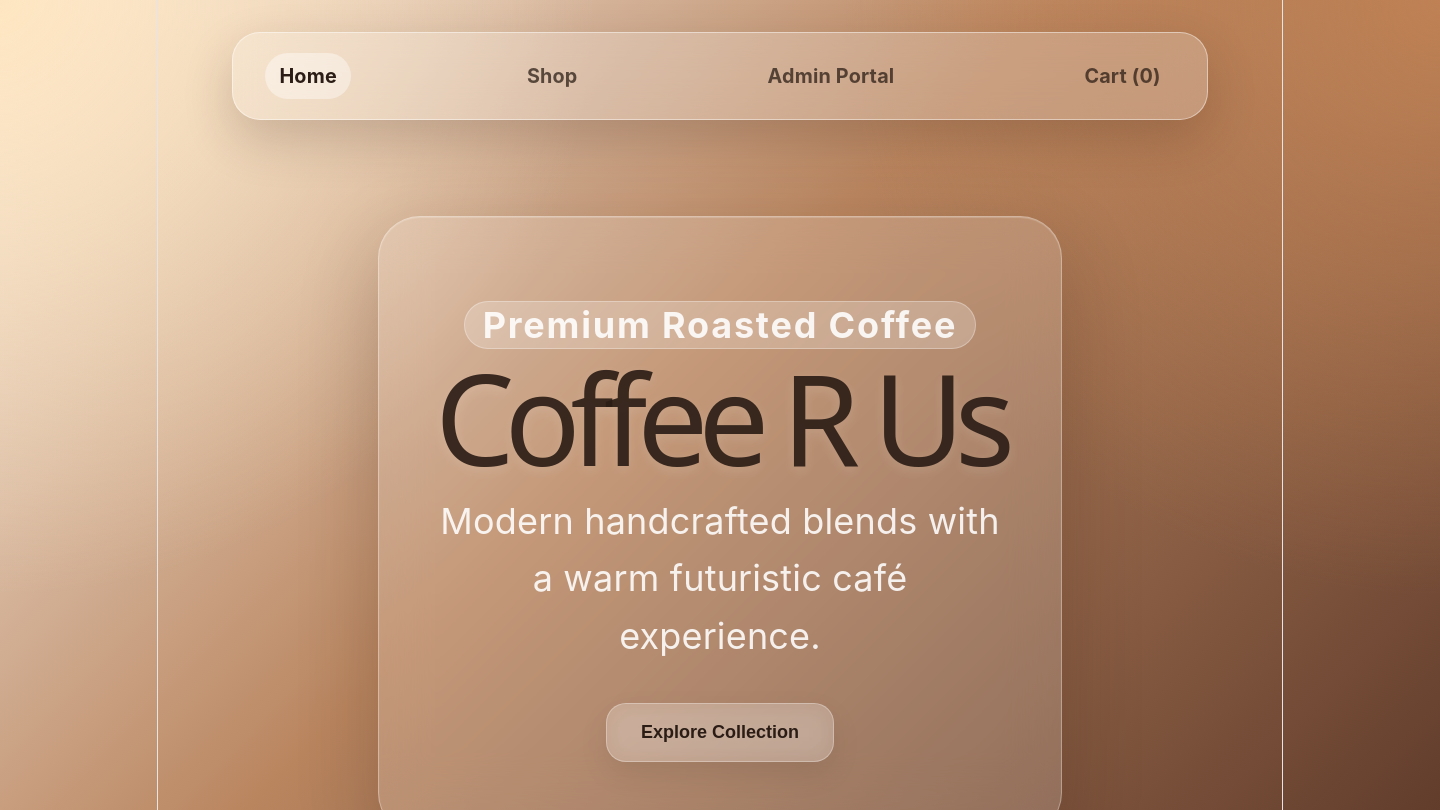
it: Coffee R Us App › adds a new coffee through the admin form
Click the link "Admin Portal".
click(831, 76)  # box [768, 64, 894, 88]
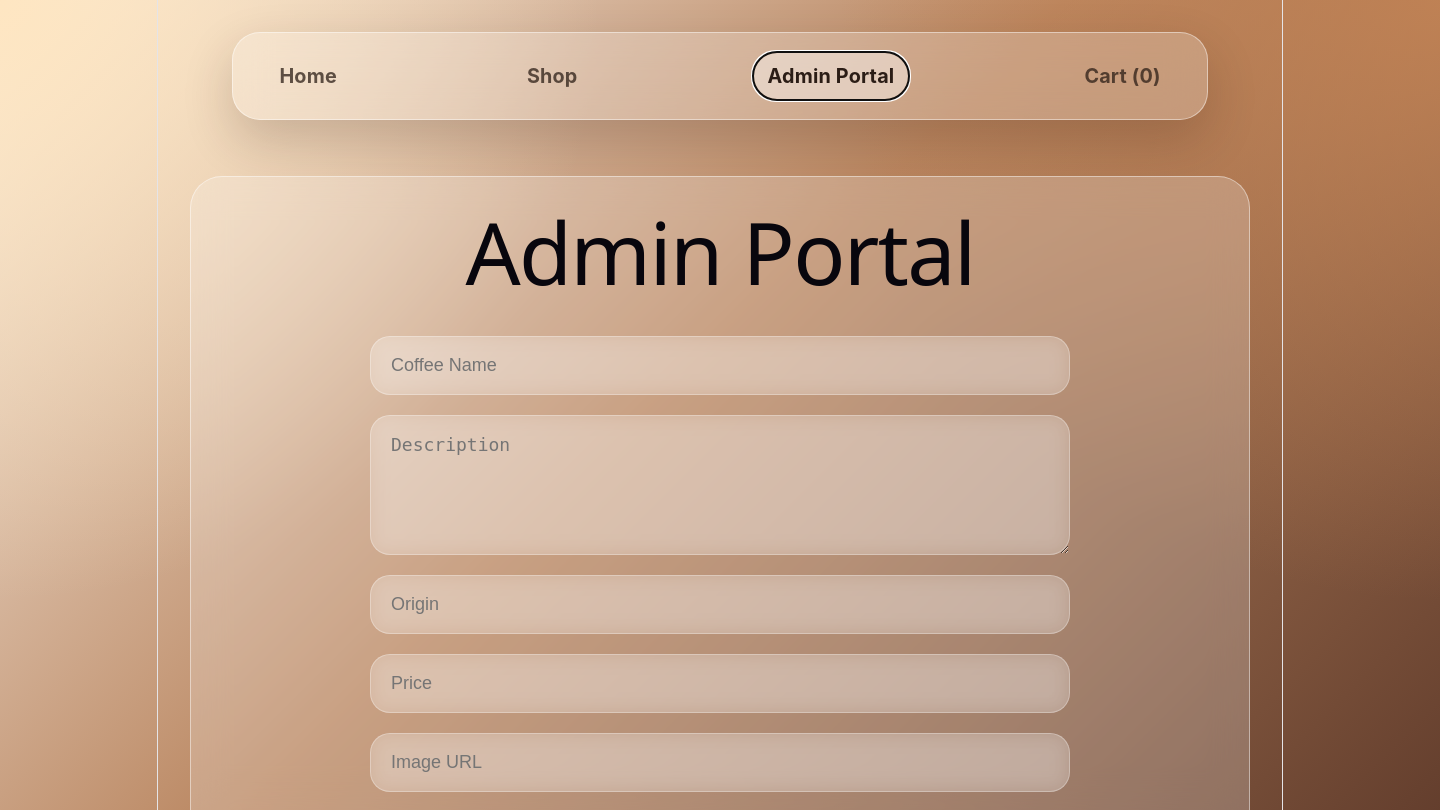
Type "Cinnamon Cloud" into the field with placeholder "Coffee Name".
click(720, 365); type("Cinnamon Cloud")  # box [370, 336, 1070, 394]
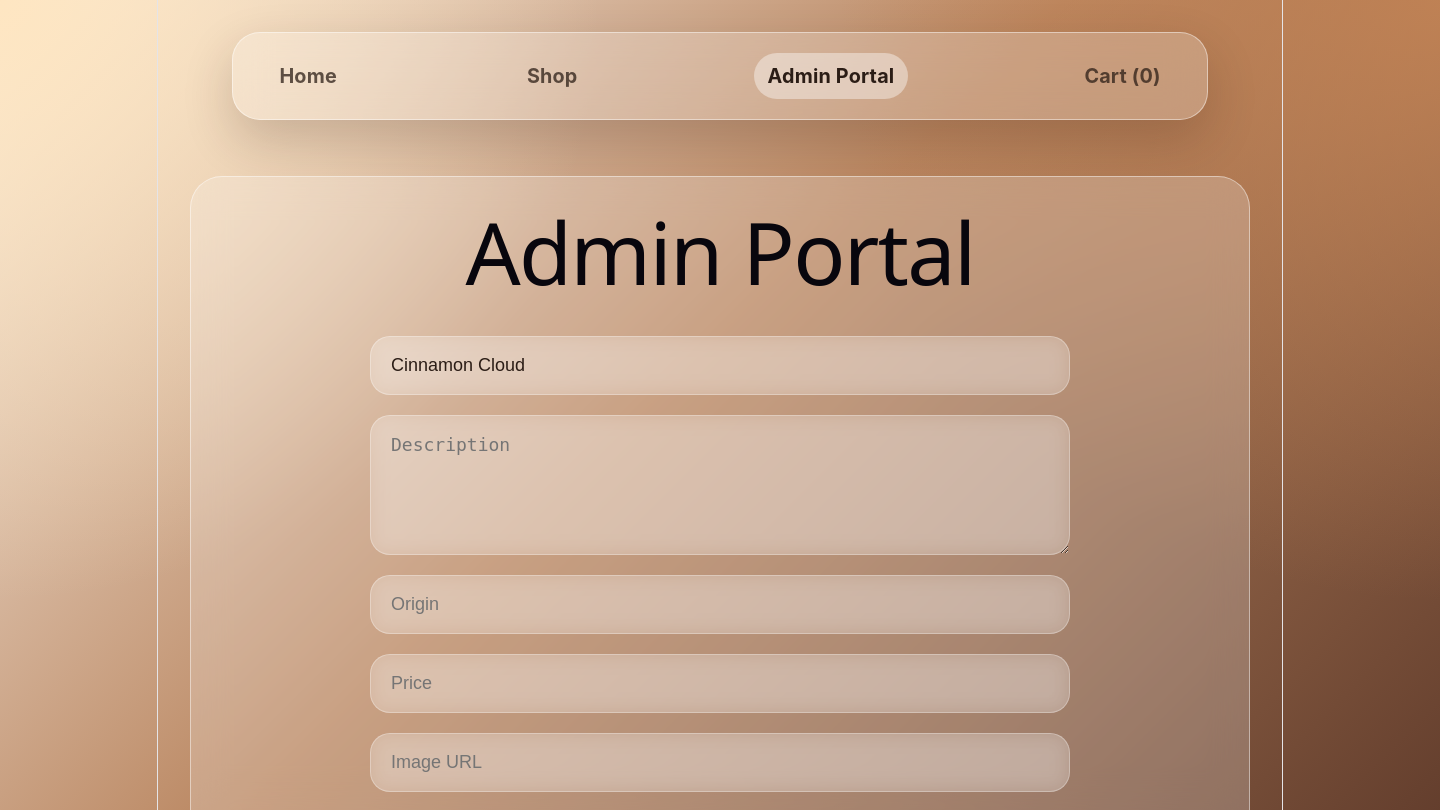
Type "Sweet warm roast" into the text box with placeholder "Description".
click(720, 484); type("Sweet warm roast")  # box [370, 414, 1070, 554]
Type "Mexico" into the field with placeholder "Origin".
click(720, 604); type("Mexico")  # box [370, 574, 1070, 634]
Type "16" into the number field with placeholder "Price".
click(720, 683); type("16")  # box [370, 654, 1070, 712]
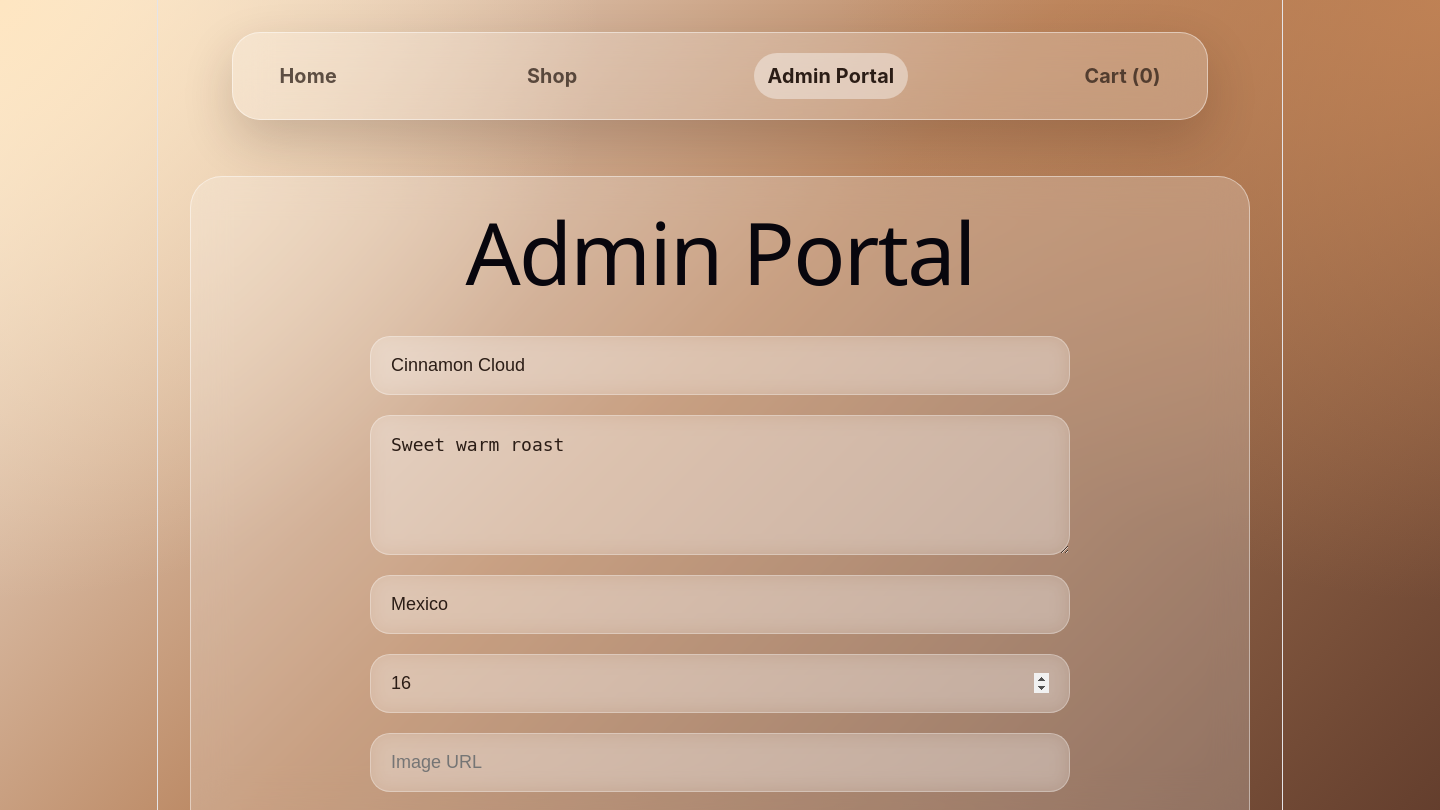
Type "https://images.unsplash.com/photo-1509042239860-f550ce710b93" into the field with placeholder "Image URL".
click(720, 762); type("https://images.unsplash.com/photo-1509042239860-f550ce710b93")  # box [370, 732, 1070, 792]
(page scrolled)
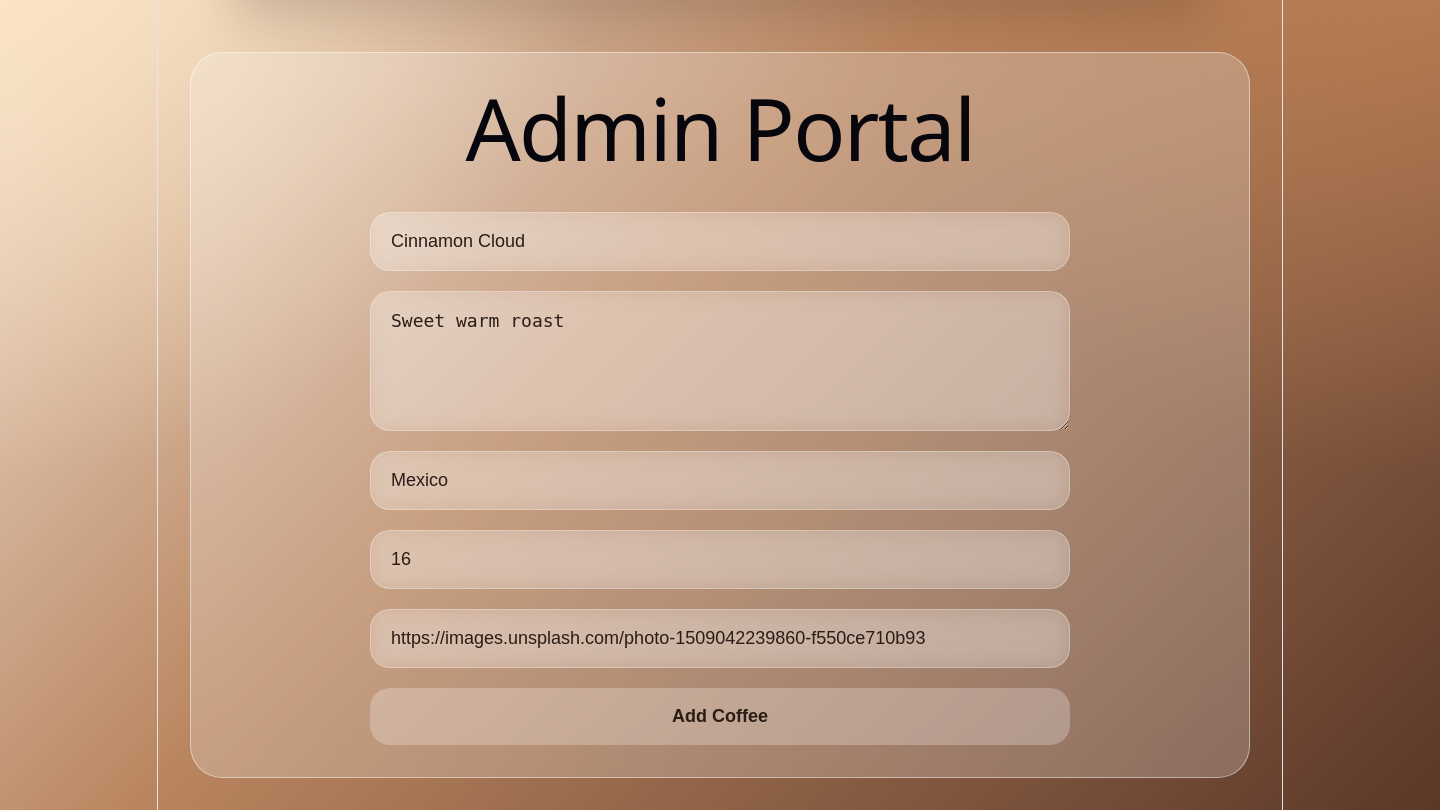
Click the button "Add Coffee".
click(720, 716)  # box [370, 688, 1070, 744]
(page scrolled)
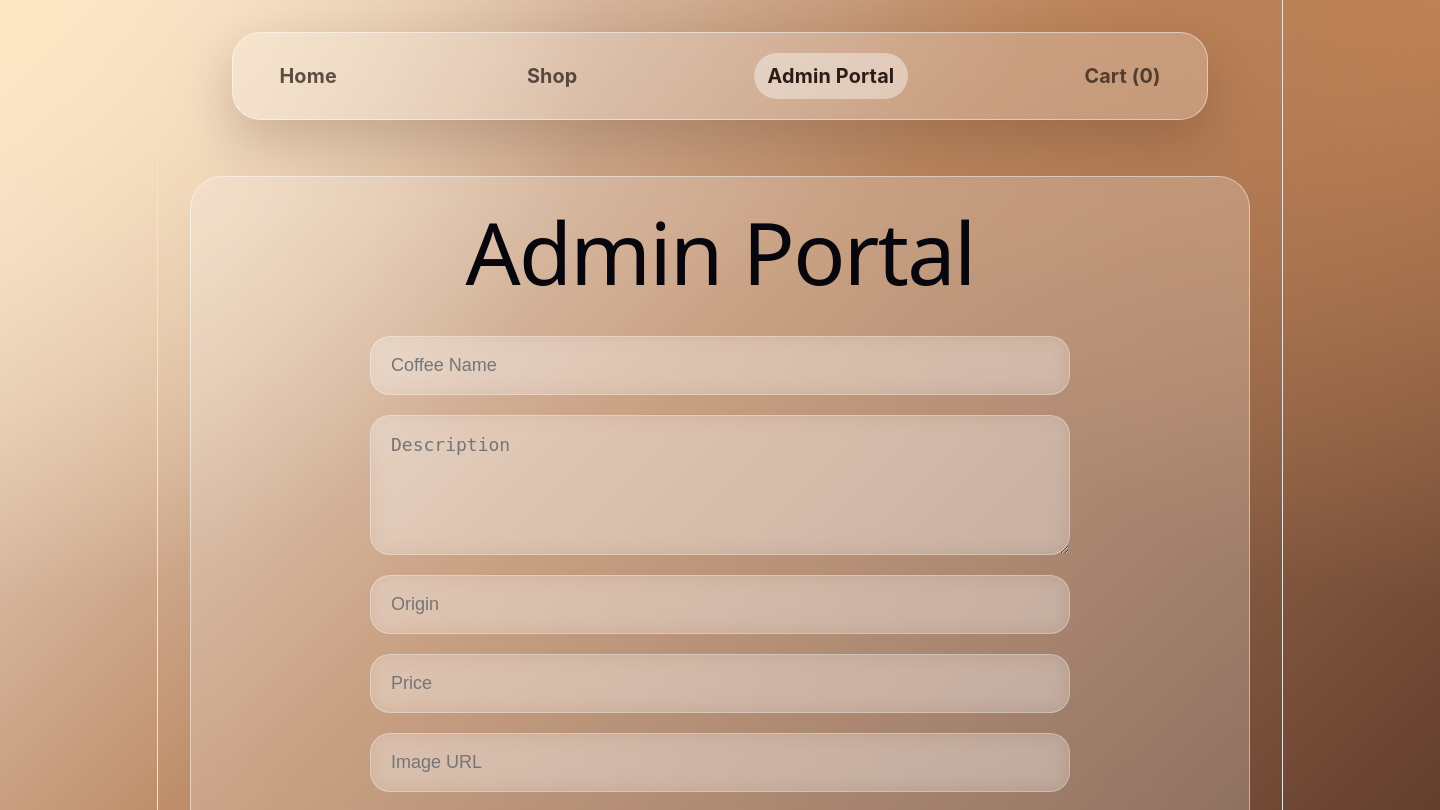
Click the link "Shop".
click(552, 76)  # box [527, 64, 578, 88]
(page scrolled)
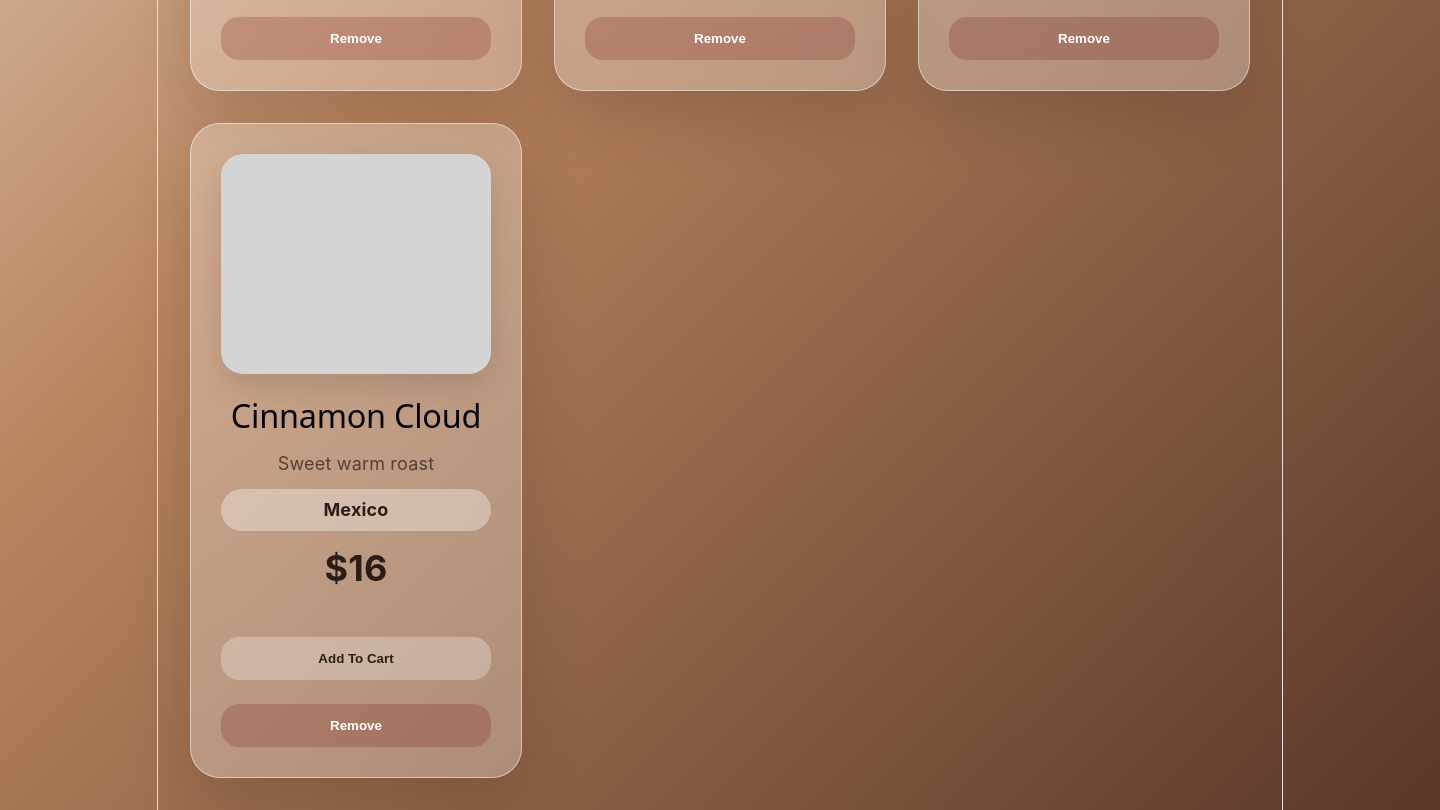
Expected: the heading "Cinnamon Cloud" is shown, [221, 396, 491, 434]
